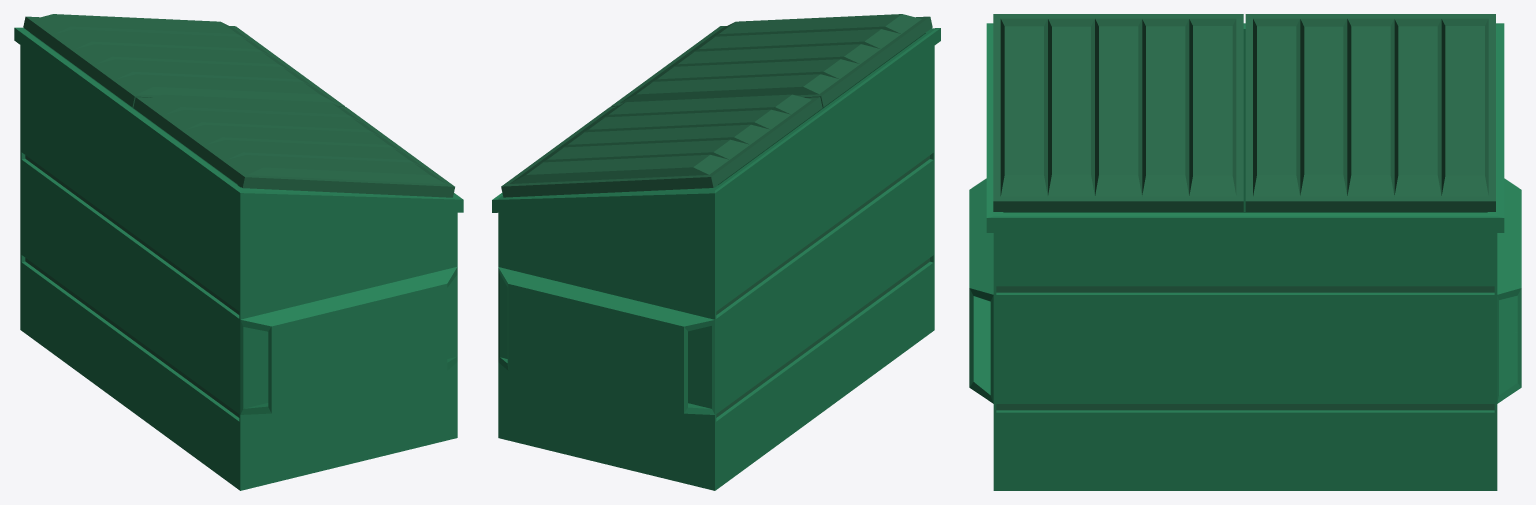
File: Dumpster 1.fbx
3 renders of one model, left to right at view 1: azimuth 30°, elevation 25°; view 2: azimuth 150°, elevation 25°; view 3: azimuth 270°, elevation 25°, orthographic. The views are drawn at different scales.
Visible parts, largest first — view 1: Body, L_lid, R_lid; view 2: Body, R_lid, L_lid; view 3: Body, L_lid, R_lid.
Boxes of the visible parts, x1=… form: Body: x1=14, y1=27, x2=463, y2=490; L_lid: x1=133, y1=94, x2=454, y2=197; R_lid: x1=23, y1=14, x2=344, y2=107; Body: x1=492, y1=28, x2=940, y2=490; R_lid: x1=501, y1=94, x2=822, y2=197; L_lid: x1=611, y1=14, x2=932, y2=107; Body: x1=969, y1=23, x2=1521, y2=490; L_lid: x1=993, y1=14, x2=1243, y2=211; R_lid: x1=1245, y1=14, x2=1495, y2=211.
Bounding box in the file's own units: 134 × 179 × 250.
